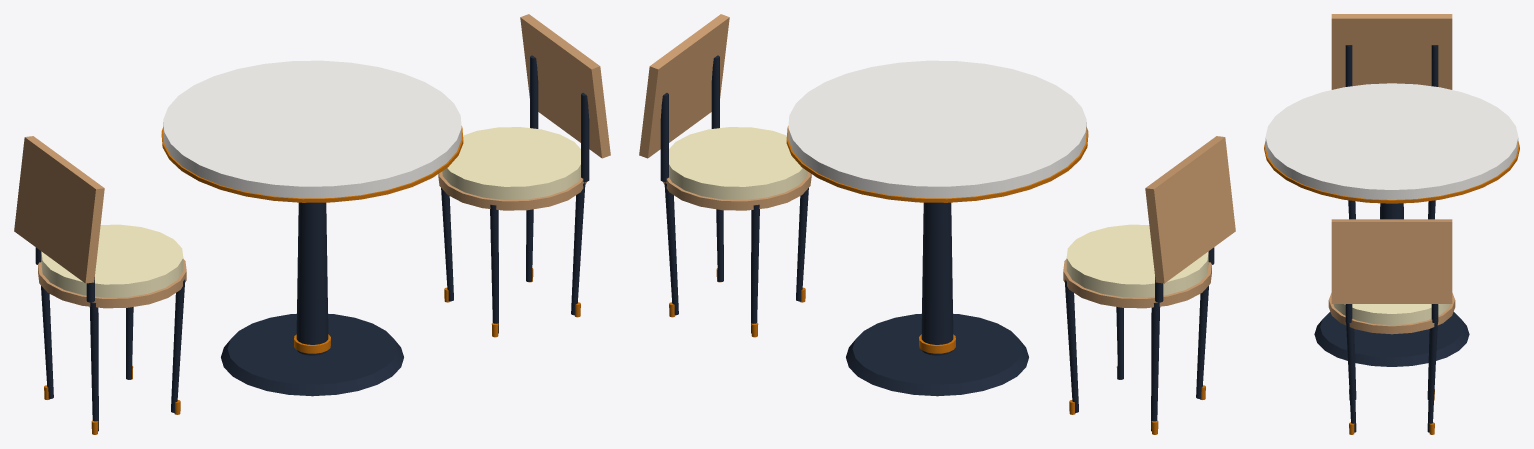
File: ShiftSync_Bistro_Set.glb
3 views of the same model, side by side, from view 1: azimuth 30°, elevation 25°; view 2: azimuth 150°, elevation 25°; view 3: azimuth 270°, elevation 25° (orthographic). The views are drawn at different scales.
Parts seen in each view (by area): view 1: Bistro_Table_Top, Chair_Backrest (×2), Chair_Seat_Cushion (×2), Bistro_Table_Base, Bistro_Table_Column, Chair_Seat_Plinth (×2), Chair_Leg_1 (×2), Chair_Leg_2 (×2), Bistro_Table_BrassRing, Chair_Leg_0, Chair_Leg_3, Chair_Post_R (+1 smaller); view 2: Bistro_Table_Top, Chair_Backrest (×2), Chair_Seat_Cushion (×2), Bistro_Table_Base, Bistro_Table_Column, Chair_Seat_Plinth (×2), Chair_Leg_0 (×2), Chair_Leg_3 (×2), Bistro_Table_BrassRing, Chair_Leg_1, Chair_Leg_2, Chair_Post_L (+1 smaller); view 3: Bistro_Table_Top, Chair_Backrest (×2), Bistro_Table_Base, Chair_Seat_Cushion, Chair_Seat_Plinth, Bistro_Table_BrassRing, Chair_Leg_0, Chair_Leg_1, Bistro_Table_Column, Chair_Post_L, Chair_Post_R.
Boxes of the visible parts, x1=… form: Bistro_Table_Top: x1=163, y1=60, x2=461, y2=198; Chair_Backrest (×2): x1=14, y1=14, x2=610, y2=283; Chair_Seat_Cushion (×2): x1=41, y1=127, x2=580, y2=297; Bistro_Table_Base: x1=221, y1=313, x2=403, y2=396; Bistro_Table_Column: x1=296, y1=202, x2=328, y2=355; Chair_Seat_Plinth (×2): x1=38, y1=171, x2=586, y2=308; Chair_Leg_1 (×2): x1=41, y1=182, x2=585, y2=398; Chair_Leg_2 (×2): x1=171, y1=188, x2=453, y2=412; Bistro_Table_BrassRing: x1=161, y1=126, x2=463, y2=202; Chair_Leg_0: x1=89, y1=302, x2=98, y2=431; Chair_Leg_3: x1=490, y1=204, x2=498, y2=333; Chair_Post_R: x1=581, y1=93, x2=589, y2=181; Bistro_Table_Top: x1=788, y1=60, x2=1086, y2=198; Chair_Backrest (×2): x1=639, y1=14, x2=1235, y2=283; Chair_Seat_Cushion (×2): x1=669, y1=127, x2=1208, y2=297; Bistro_Table_Base: x1=846, y1=313, x2=1028, y2=396; Bistro_Table_Column: x1=921, y1=202, x2=953, y2=355; Chair_Seat_Plinth (×2): x1=663, y1=171, x2=1211, y2=308; Chair_Leg_0 (×2): x1=664, y1=182, x2=1208, y2=398; Chair_Leg_3 (×2): x1=796, y1=188, x2=1078, y2=412; Bistro_Table_BrassRing: x1=786, y1=126, x2=1088, y2=202; Chair_Leg_1: x1=1151, y1=302, x2=1160, y2=431; Chair_Leg_2: x1=751, y1=204, x2=759, y2=333; Chair_Post_L: x1=660, y1=93, x2=668, y2=181; Bistro_Table_Top: x1=1265, y1=83, x2=1518, y2=199; Chair_Backrest (×2): x1=1331, y1=14, x2=1452, y2=303; Bistro_Table_Base: x1=1314, y1=312, x2=1469, y2=366; Chair_Seat_Cushion: x1=1333, y1=304, x2=1450, y2=325; Chair_Seat_Plinth: x1=1328, y1=293, x2=1455, y2=334; Bistro_Table_BrassRing: x1=1264, y1=141, x2=1519, y2=203; Chair_Leg_0: x1=1427, y1=322, x2=1437, y2=432; Chair_Leg_1: x1=1346, y1=322, x2=1356, y2=432; Bistro_Table_Column: x1=1380, y1=203, x2=1403, y2=219; Chair_Post_L: x1=1345, y1=45, x2=1352, y2=86; Chair_Post_R: x1=1431, y1=45, x2=1438, y2=86.
Size of the model in its own units: 1.8 by 0.8307 by 0.89.
